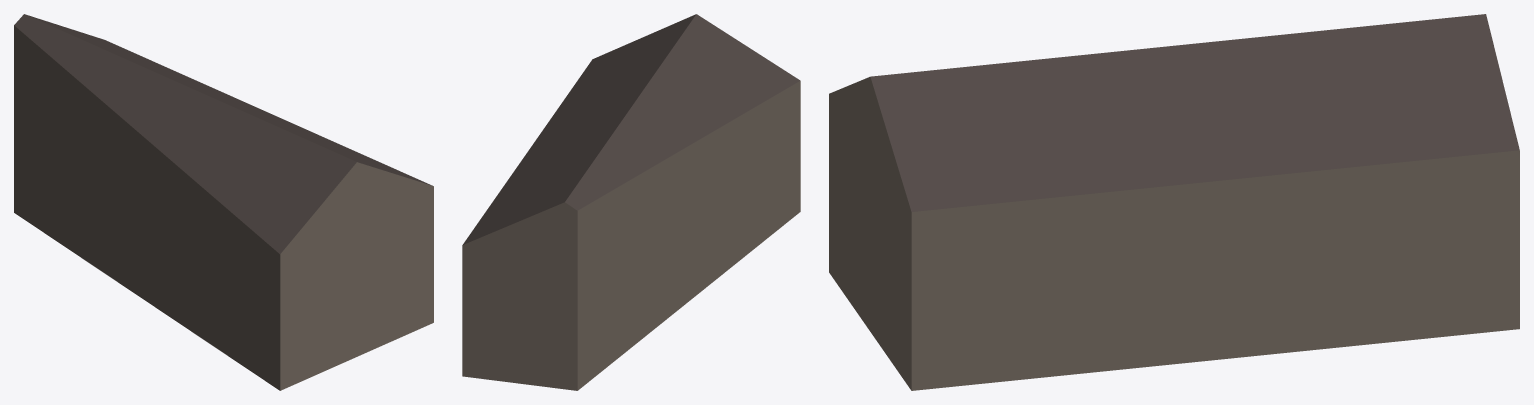
3 renders of one model, left to right at view 1: azimuth 30°, elevation 25°; view 2: azimuth 150°, elevation 25°; view 3: azimuth 270°, elevation 25°, orthographic. The views are drawn at different scales.
Visible parts, largest first — view 1: HP-w442178038; view 2: HP-w442178038; view 3: HP-w442178038.
Part boxes in pixels (x1,y1,x2,y2): HP-w442178038: (14, 14, 433, 390); HP-w442178038: (462, 14, 800, 390); HP-w442178038: (829, 14, 1519, 390).
Size of the model in its own units: 9.3 by 8.56 by 21.
